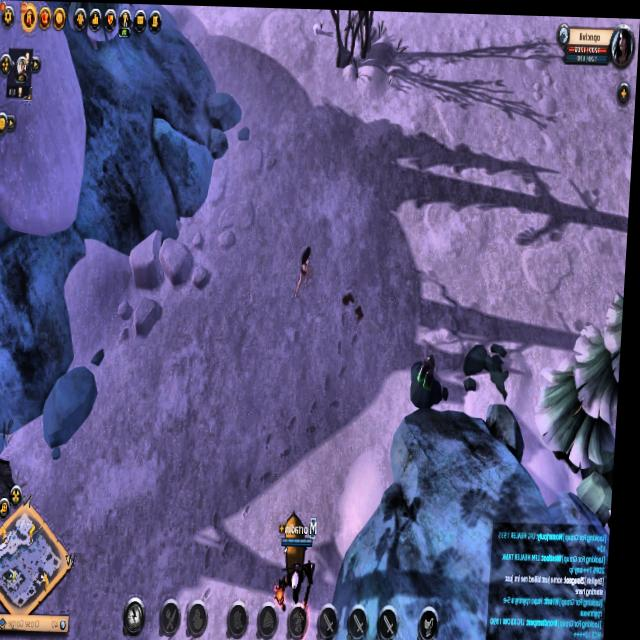tin_ore: (409, 342, 449, 410)
